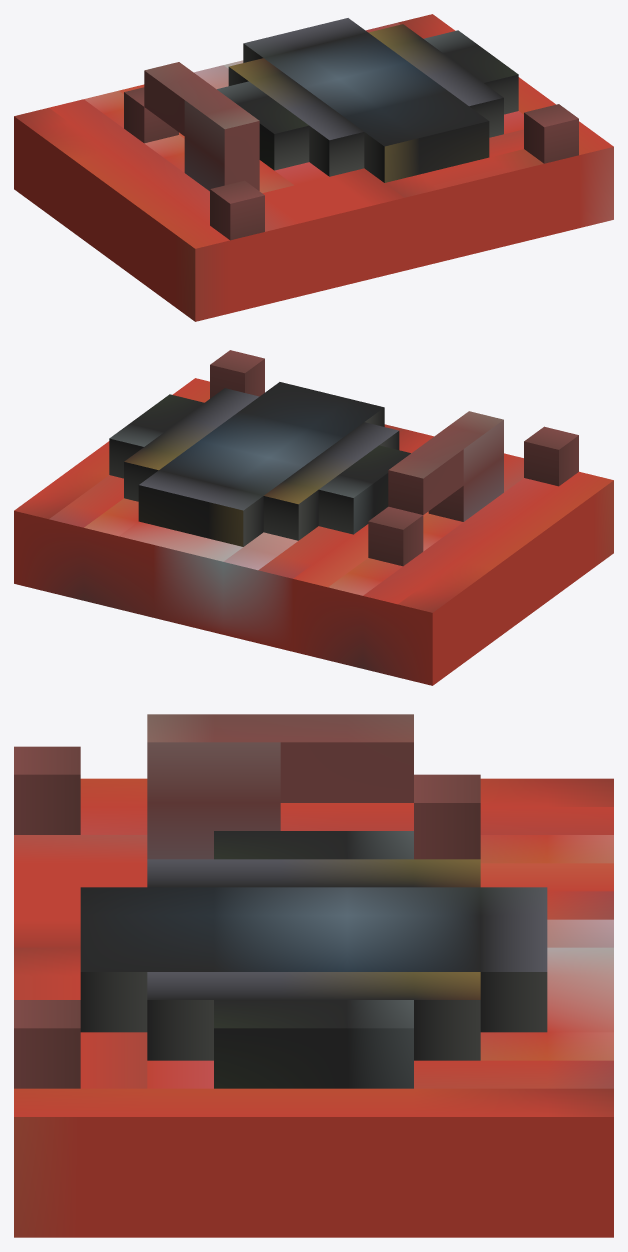
Rendered from RecordPlayer_00.fbx.
3 views of the same model, one above another, from view 1: azimuth 30°, elevation 25°; view 2: azimuth 150°, elevation 25°; view 3: azimuth 270°, elevation 25° (orthographic). The views are drawn at different scales.
Visible parts, largest first — view 1: RecordPlayer_00; view 2: RecordPlayer_00; view 3: RecordPlayer_00.
Part boxes in pixels (x1=…): RecordPlayer_00: x1=14, y1=14, x2=613, y2=321; RecordPlayer_00: x1=14, y1=350, x2=613, y2=685; RecordPlayer_00: x1=14, y1=714, x2=613, y2=1237.
Size of the model in its own units: 60 by 45 by 20.
Materials: 1 (1 with a texture image).
